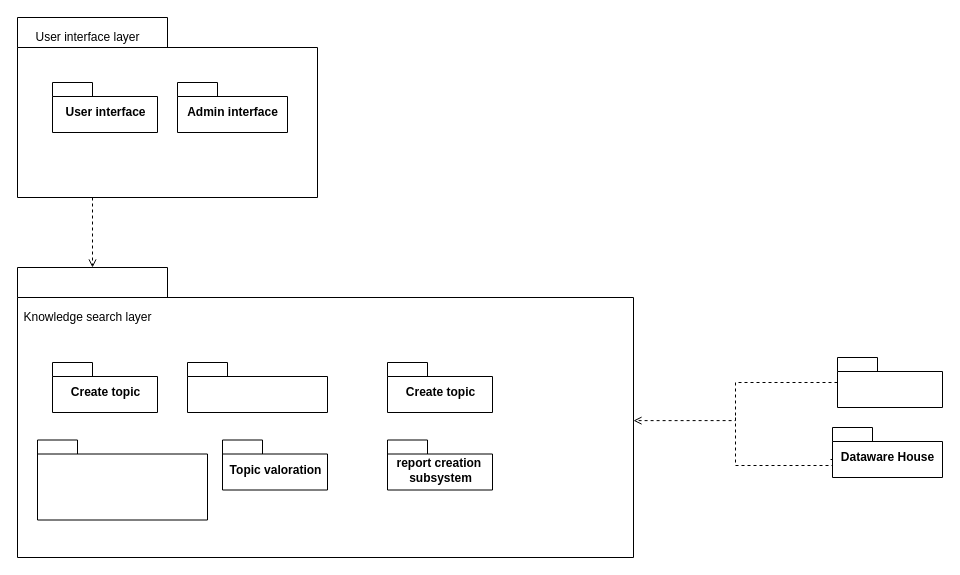
The diagram is 960 pixels wide and 575 high, and some of its shapes have lost their labels. The centre of each missing label's shape, as x and y in pixels:
Database: the point at 889,382
recommendation subsystem of related topics: the point at 122,479
topic customization subsystem: the point at 257,387
